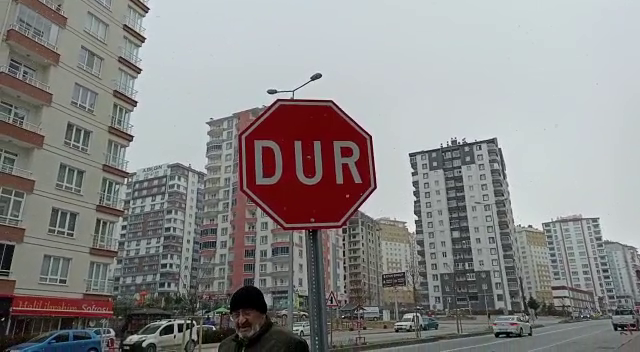stop: (236, 97, 380, 234)
